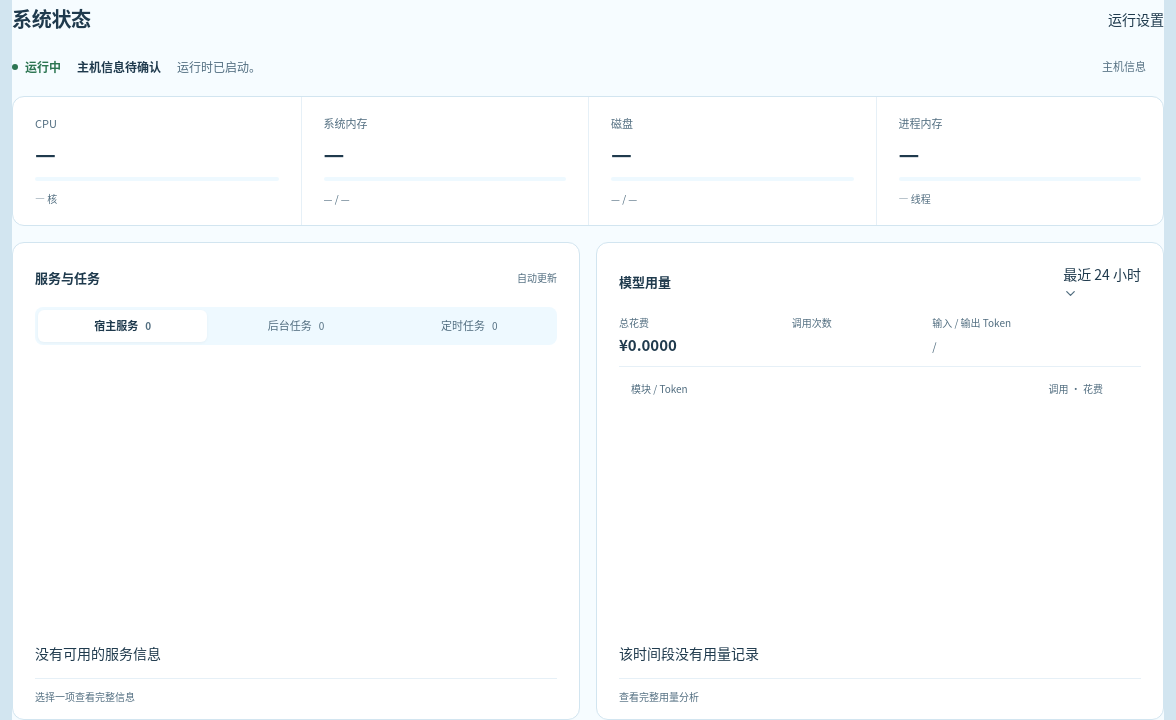
任务来源失败显示服务返回的原因，不误报为空闲
Expected: the text "运行时已启动。" is shown, 177,57 -> 261,77
Step 1. Click the button "后台任务 0" → click(296, 326), box 211,310 -> 381,342
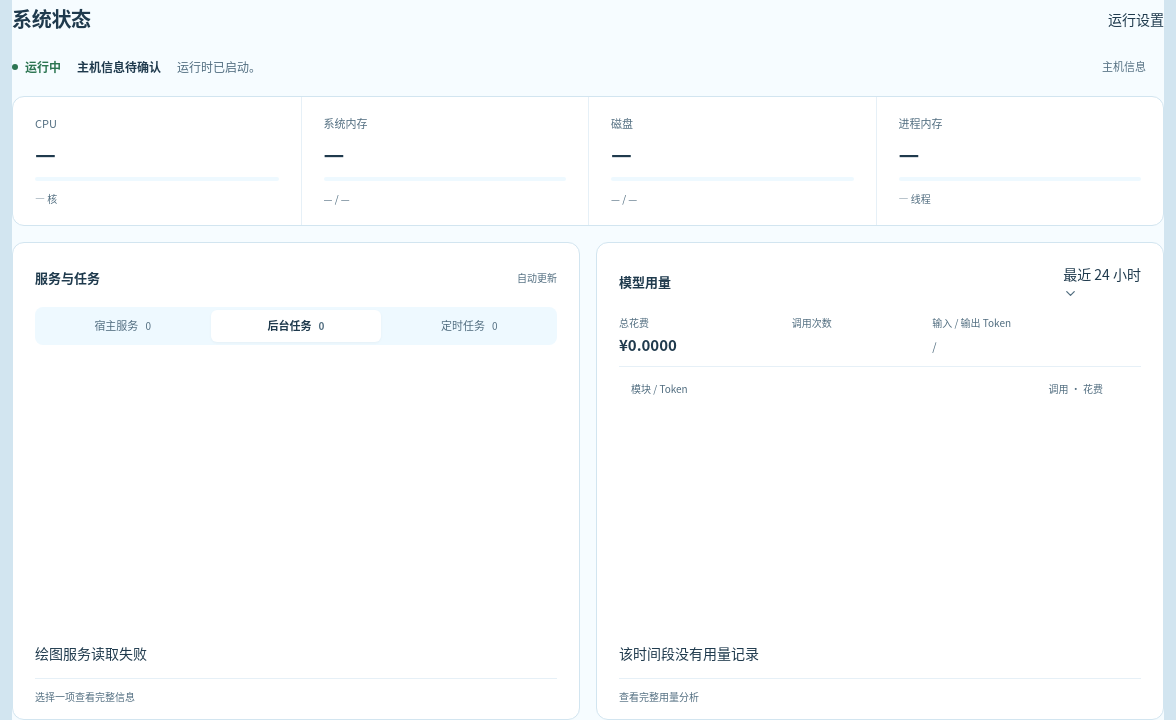
Result: the text "绘图服务读取失败" is shown at 35,643 -> 147,663
Step 2. Click the button "定时任务 0" → click(469, 326), box 385,310 -> 554,342
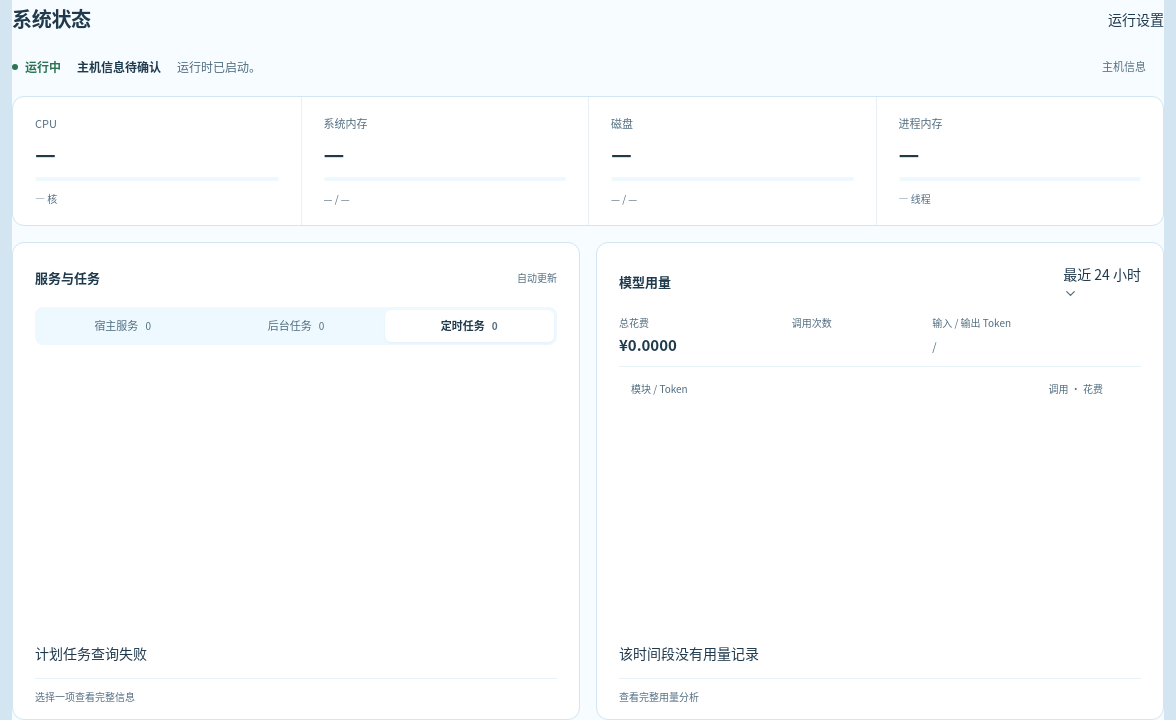
Result: the text "计划任务查询失败" is shown at 35,643 -> 147,663
